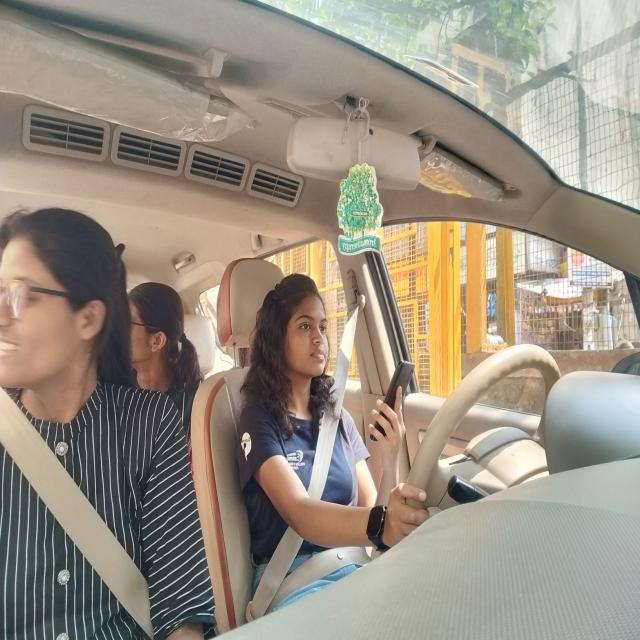mobile: (368, 346, 422, 446)
person: (0, 202, 127, 451), (258, 276, 337, 430), (135, 272, 202, 410)
